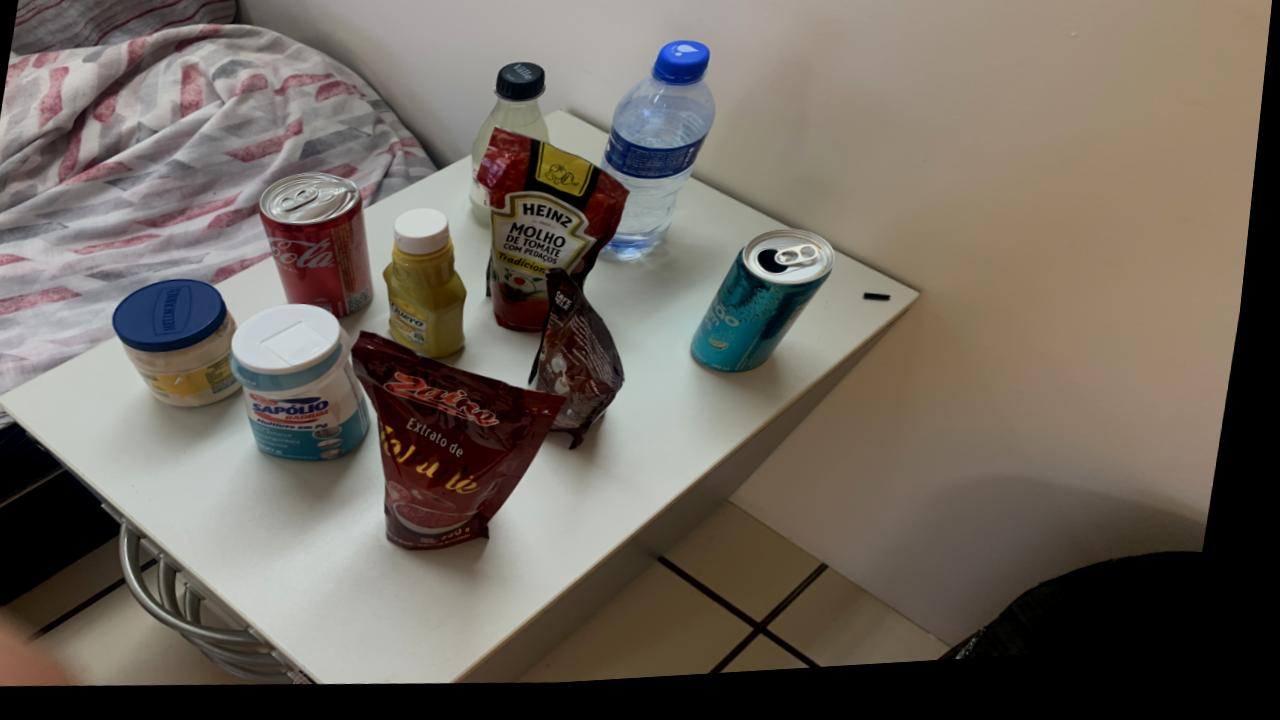Cleaner-Cleanup_Items: (237, 308, 379, 466)
Coffee-Pantry_Items: (538, 275, 634, 458)
Coke-Drinks: (263, 176, 380, 321)
Mayonnaise-Pantry_Items: (119, 283, 249, 409)
Mustard-Pantry_Items: (389, 214, 473, 363)
Soda-Drinks: (473, 69, 552, 234)
Tea-Drinks: (698, 239, 841, 382)
Tomato_Sauce-Pantry_Items: (360, 336, 573, 555), (481, 134, 633, 339)
Water_Bottle-Drinks: (606, 49, 719, 268)
